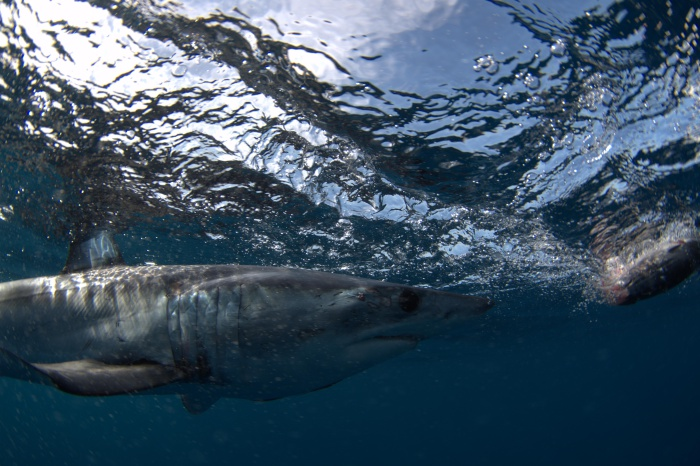Mako: (1, 214, 529, 423)
